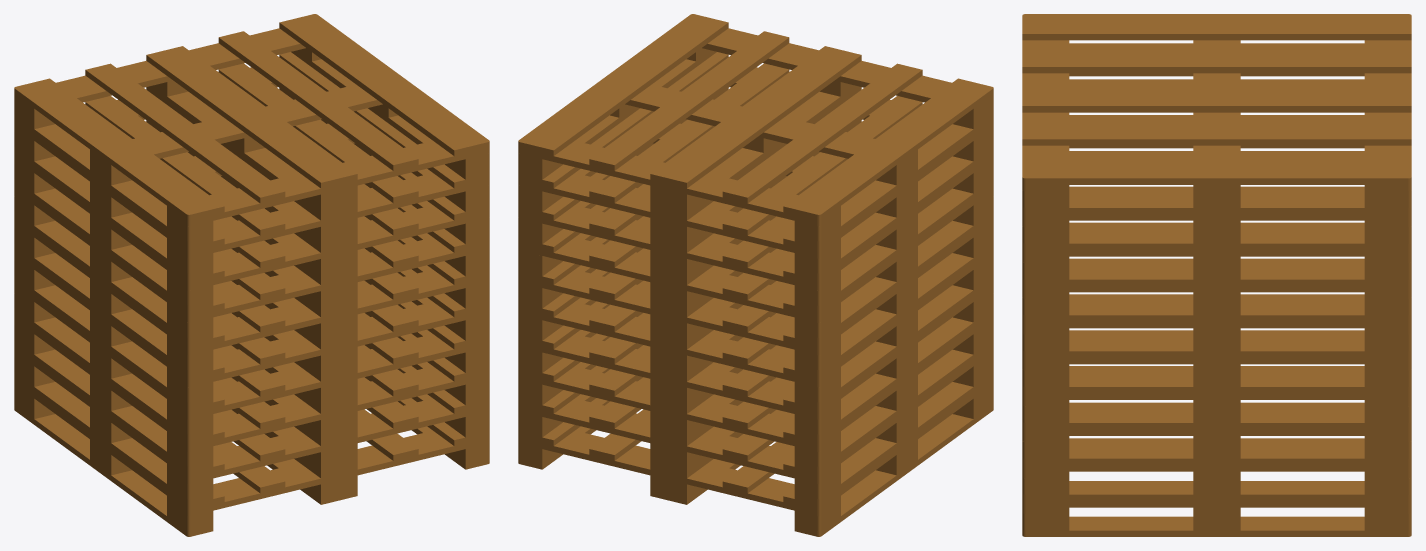
Rendered from europallet_10.dae.
3 renders of one model, left to right at view 1: azimuth 30°, elevation 25°; view 2: azimuth 150°, elevation 25°; view 3: azimuth 270°, elevation 25°, orthographic. The views are drawn at different scales.
Visible parts, largest first — view 1: Europallet.009, Europallet.008, Europallet.007, Europallet.003, Europallet.004, Europallet.010, Europallet.002, Europallet.005, Europallet.001, Europallet.006; view 2: Europallet.009, Europallet.008, Europallet.007, Europallet.003, Europallet.004, Europallet.010, Europallet.002, Europallet.005, Europallet.001, Europallet.006; view 3: Europallet.009, Europallet.008, Europallet.004, Europallet.002, Europallet.003, Europallet.005, Europallet.001, Europallet.006, Europallet.010, Europallet.007.
Boxes of the visible parts, x1,y1,x2,y2 form: Europallet.009: (14,14,489,246); Europallet.008: (14,52,489,279); Europallet.007: (14,88,489,311); Europallet.003: (14,280,489,440); Europallet.004: (14,248,489,407); Europallet.010: (14,344,489,504); Europallet.002: (14,312,489,472); Europallet.005: (14,216,489,375); Europallet.001: (14,377,489,536); Europallet.006: (14,183,489,343); Europallet.009: (518,14,993,246); Europallet.008: (518,52,993,279); Europallet.007: (518,88,993,311); Europallet.003: (518,280,993,440); Europallet.004: (518,248,993,407); Europallet.010: (518,344,993,504); Europallet.002: (518,312,993,472); Europallet.005: (518,216,993,375); Europallet.001: (518,377,993,536); Europallet.006: (518,183,993,343); Europallet.009: (1022,14,1411,214); Europallet.008: (1022,73,1411,249); Europallet.004: (1022,222,1411,393); Europallet.002: (1022,294,1411,465); Europallet.003: (1022,258,1411,429); Europallet.005: (1022,186,1411,357); Europallet.001: (1022,366,1411,536); Europallet.006: (1022,151,1411,321); Europallet.010: (1022,330,1411,500); Europallet.007: (1022,115,1411,285).
Bounding box in the file's own units: 1200 × 1200 × 1220.
